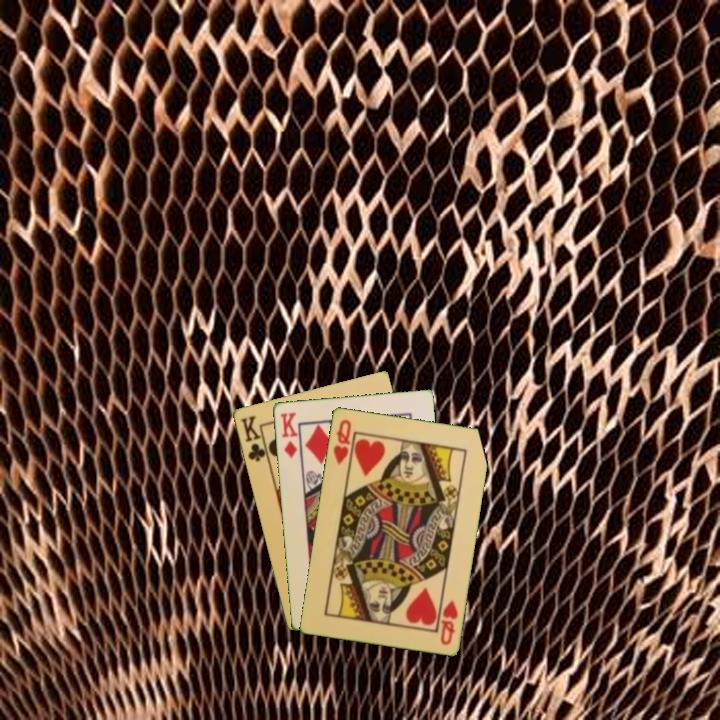Kc: (236, 412, 271, 464)
Kd: (277, 409, 300, 461)
Qh: (329, 415, 354, 467), (436, 596, 460, 648)
